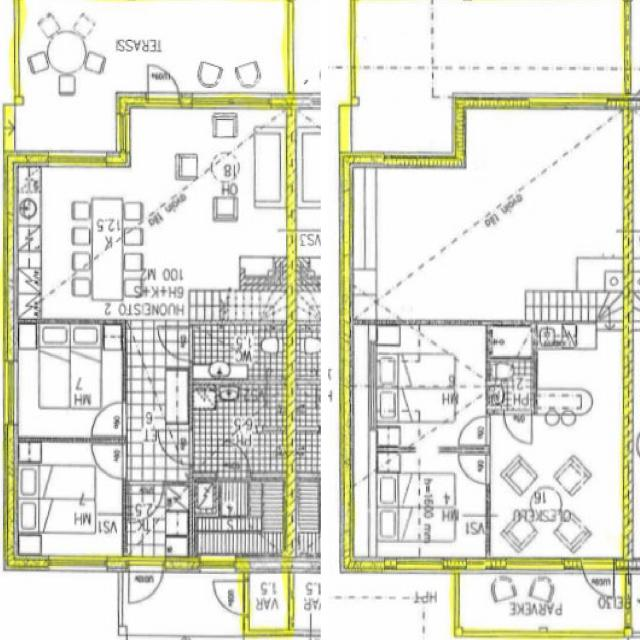door: (129, 556, 164, 610), (582, 558, 614, 608), (147, 58, 178, 108), (130, 482, 163, 522), (156, 430, 192, 464), (212, 581, 248, 615), (158, 328, 192, 361), (91, 446, 126, 478), (91, 404, 126, 436), (222, 442, 248, 482), (459, 417, 491, 446), (459, 456, 491, 484), (504, 410, 530, 442)
